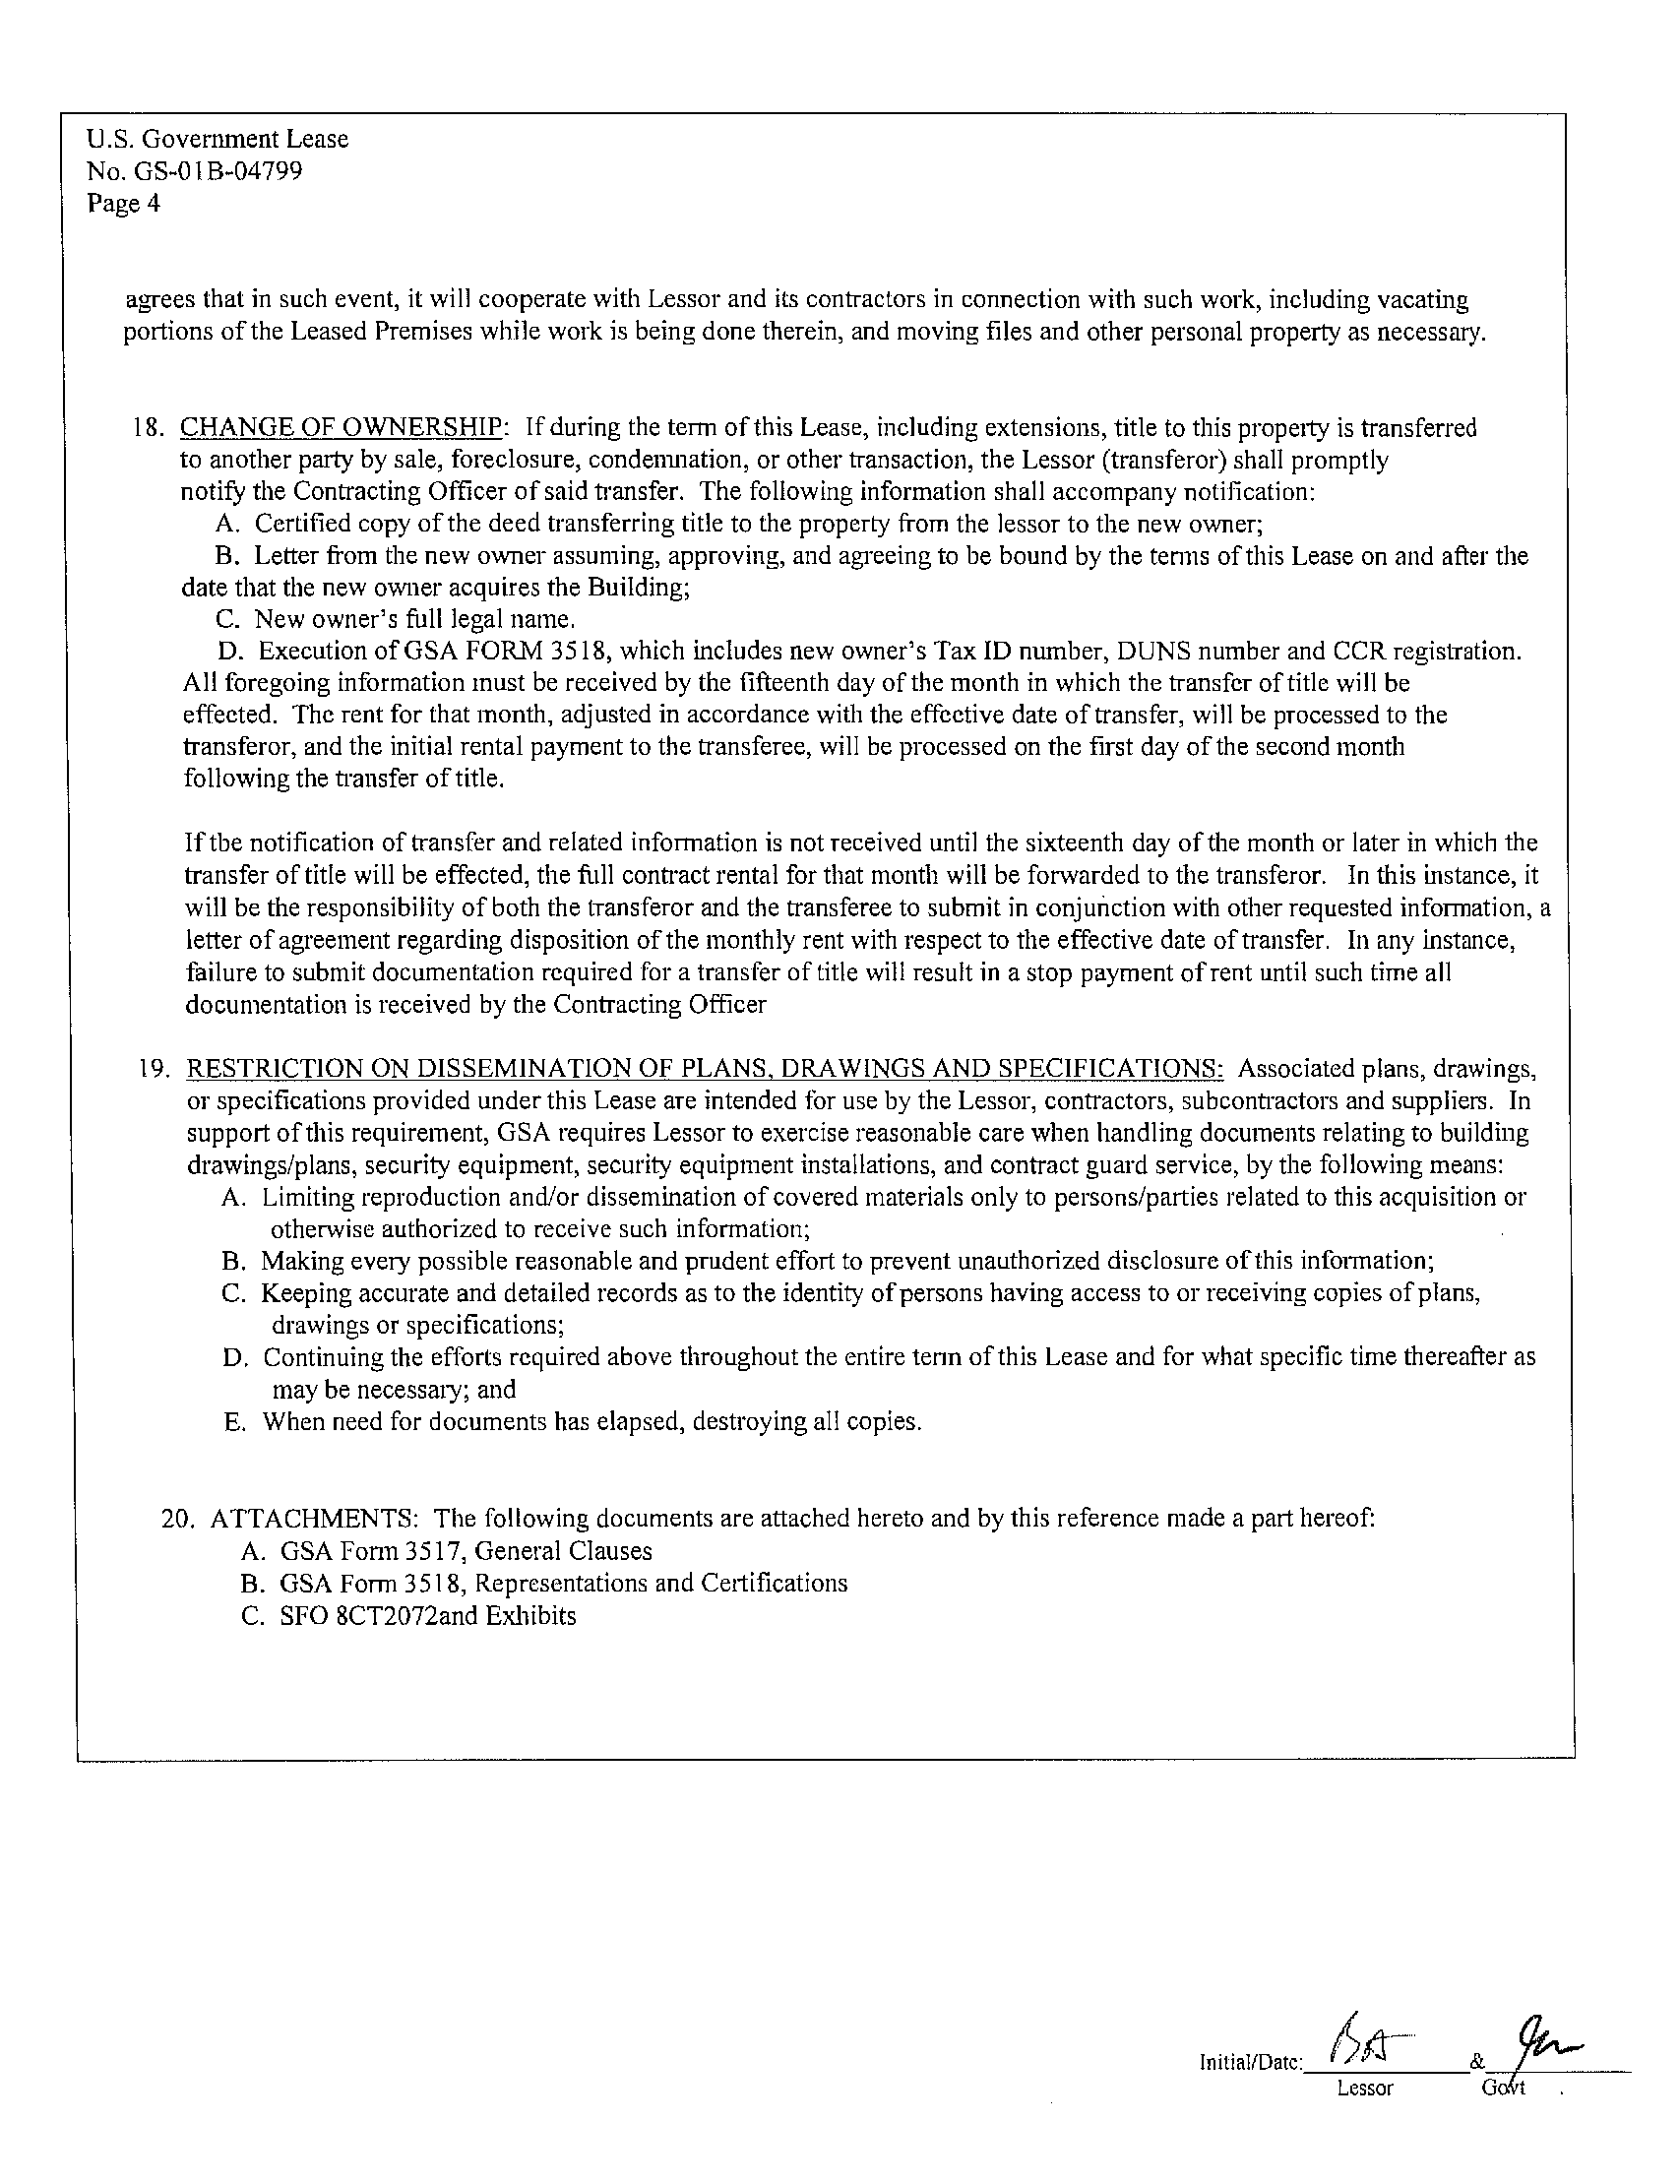handwritten: (1481, 1999, 1599, 2087), (1316, 1988, 1415, 2073)
